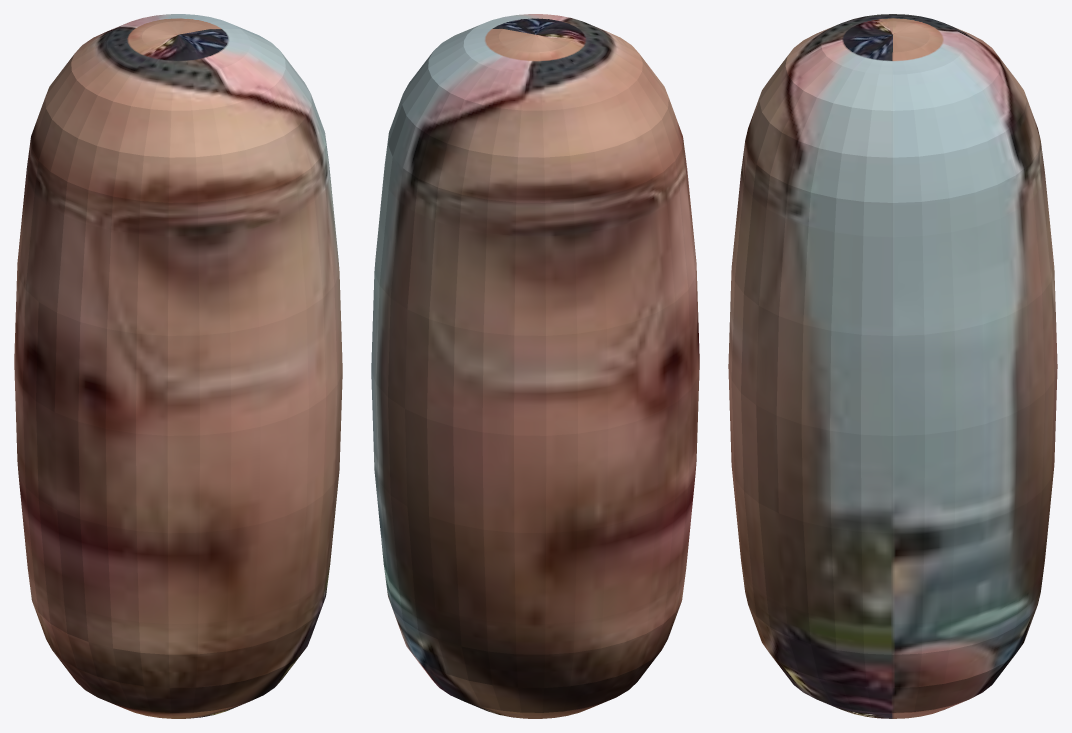
The model's file is Jonny Ball.glb.
The picture shows the model from 3 angles, left to right: view 1: azimuth 30°, elevation 25°; view 2: azimuth 150°, elevation 25°; view 3: azimuth 270°, elevation 25°; orthographic projection.
Visible parts, largest first — view 1: Sphere; view 2: Sphere; view 3: Sphere.
Part boxes in pixels (x1,y1,x2,y2): Sphere: (14,14,342,718); Sphere: (371,14,699,718); Sphere: (728,14,1057,718).
Size of the model in its own units: 2 by 4.44 by 2.
Materials: 1 (1 with a texture image).
